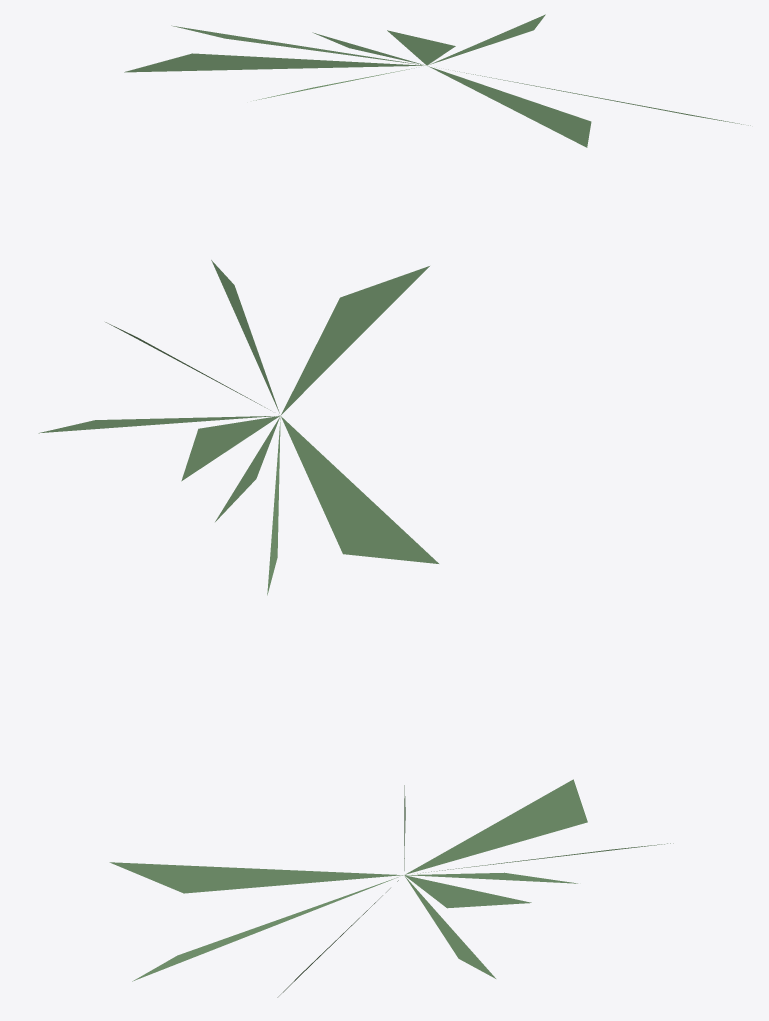
The model's file is c_1672_17831_forest.glb.
3 renders of one model, top to bottom at view 1: azimuth 30°, elevation 25°; view 2: azimuth 150°, elevation 25°; view 3: azimuth 270°, elevation 25°, orthographic. The views are drawn at different scales.
Visible parts, largest first — view 1: geometry_0; view 2: geometry_0; view 3: geometry_0.
Boxes of the visible parts, x1,y1,x2,y2 form: geometry_0: (124,14,750,147); geometry_0: (38,260,438,595); geometry_0: (109,779,673,997).
Bounding box in the file's own units: 121 × 12.22 × 137.
